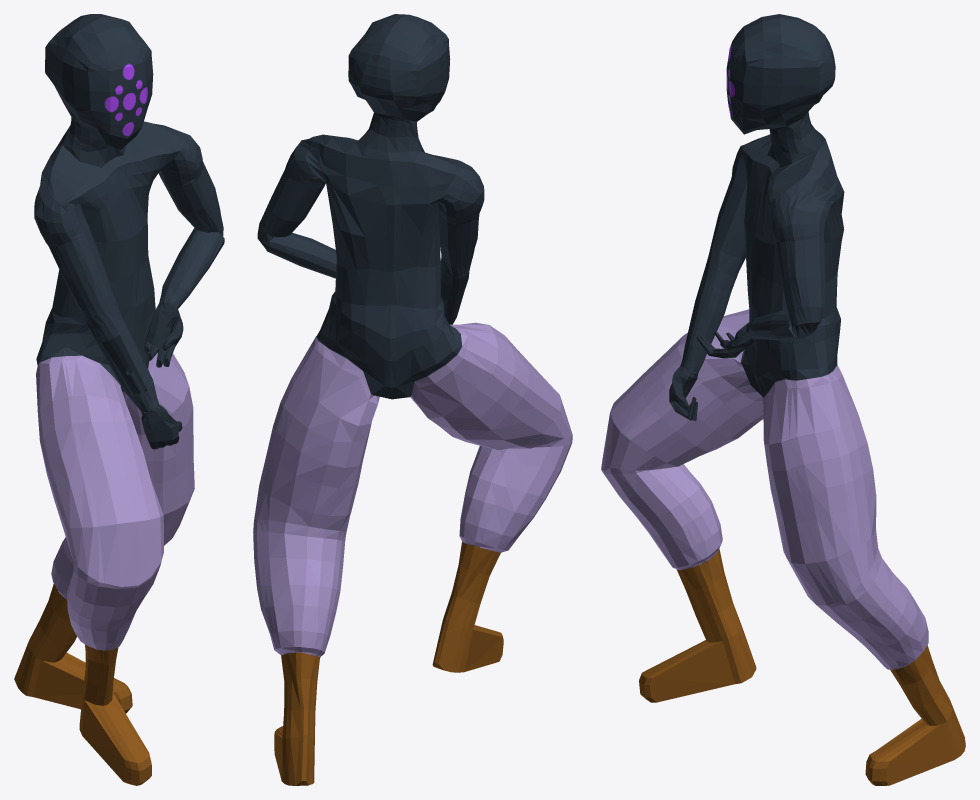
Rendered from Oracle_WB_000020.obj.
The picture shows the model from 3 angles, left to right: view 1: azimuth 30°, elevation 25°; view 2: azimuth 150°, elevation 25°; view 3: azimuth 270°, elevation 25°; orthographic projection. The views are drawn at different scales.
Visible parts, largest first — view 1: Cube; view 2: Cube; view 3: Cube.
Boxes of the visible parts, x1=… form: Cube: x1=14, y1=14, x2=224, y2=785; Cube: x1=253, y1=14, x2=572, y2=785; Cube: x1=601, y1=14, x2=965, y2=785.
Size of the model in its own units: 1.23 by 3.76 by 1.7.
